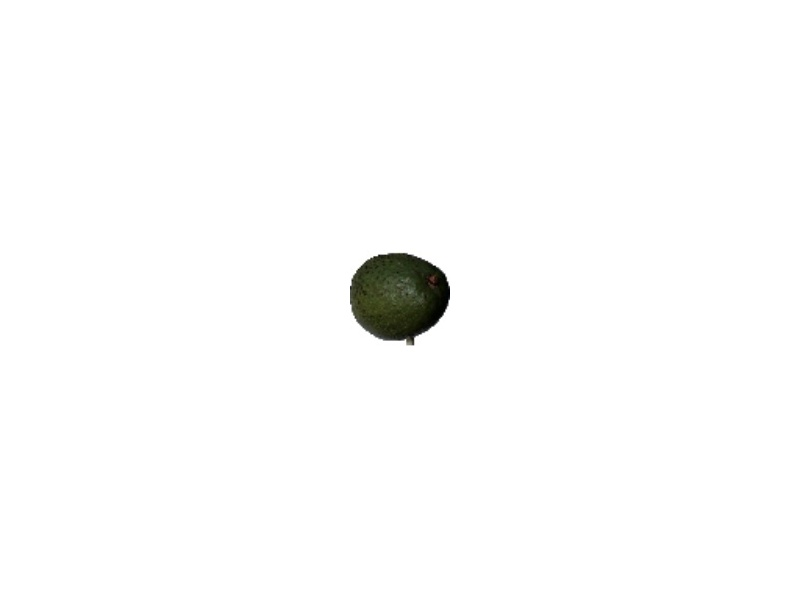abacate: (343, 250, 453, 341)
